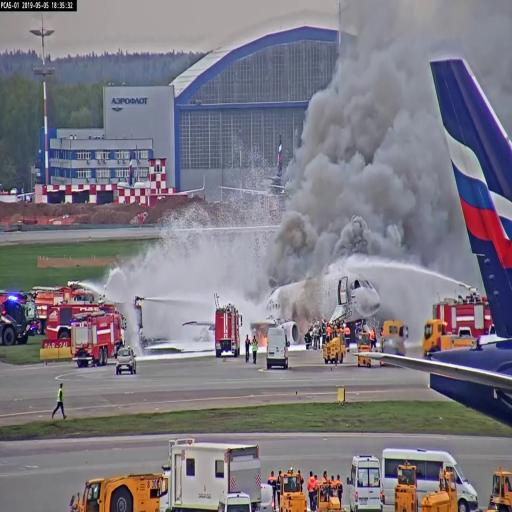smoke: (316, 93, 394, 241)
